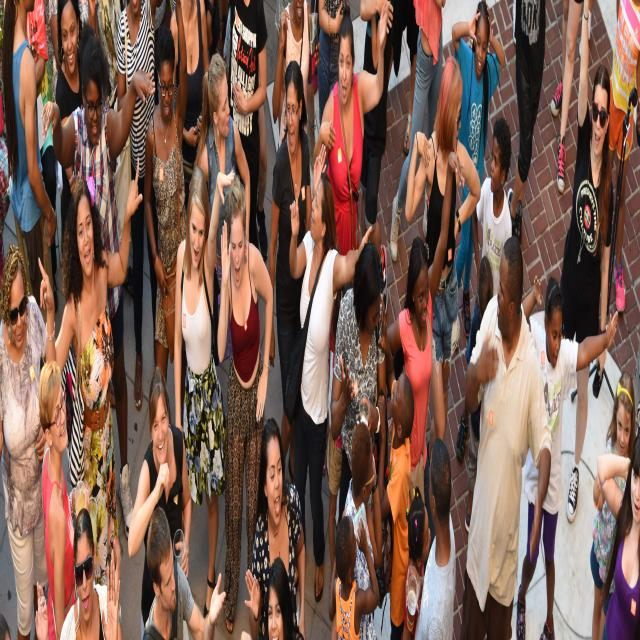body: (41, 35, 156, 541), (38, 155, 143, 592), (516, 274, 618, 638), (461, 235, 552, 639), (288, 171, 372, 603), (405, 55, 481, 475), (385, 151, 465, 513), (174, 164, 235, 629), (560, 0, 614, 525), (217, 175, 274, 635), (269, 59, 327, 486), (114, 0, 166, 409), (1, 0, 57, 372), (455, 112, 512, 463), (0, 243, 48, 639), (144, 0, 188, 427), (314, 2, 388, 254), (451, 0, 505, 340), (128, 366, 192, 640), (3, 0, 58, 313), (331, 240, 386, 528), (390, 0, 446, 262), (38, 358, 90, 640), (244, 417, 307, 639), (194, 51, 251, 289), (377, 291, 415, 639), (590, 368, 638, 640), (142, 505, 226, 639), (359, 0, 394, 316), (606, 0, 640, 312), (405, 432, 456, 640), (507, 0, 547, 251), (227, 0, 267, 249), (597, 434, 640, 640), (464, 254, 495, 534), (170, 0, 209, 217), (59, 506, 121, 639), (272, 0, 320, 156), (56, 1, 84, 261), (343, 422, 376, 640), (328, 286, 350, 592), (550, 0, 584, 194), (328, 515, 379, 639), (401, 484, 431, 640), (318, 0, 349, 129), (99, 0, 129, 113), (264, 556, 304, 640), (0, 85, 14, 296), (154, 0, 177, 110), (256, 101, 270, 262), (204, 0, 230, 86), (306, 1, 318, 178), (43, 0, 63, 103), (110, 536, 122, 640), (77, 0, 99, 48), (274, 0, 293, 45), (35, 580, 49, 640), (635, 340, 640, 437), (278, 74, 285, 139), (122, 262, 134, 298), (0, 610, 11, 640), (588, 0, 594, 40), (57, 160, 63, 198), (631, 368, 635, 403), (116, 153, 121, 173), (240, 632, 252, 640), (388, 62, 390, 88), (258, 64, 260, 87)
